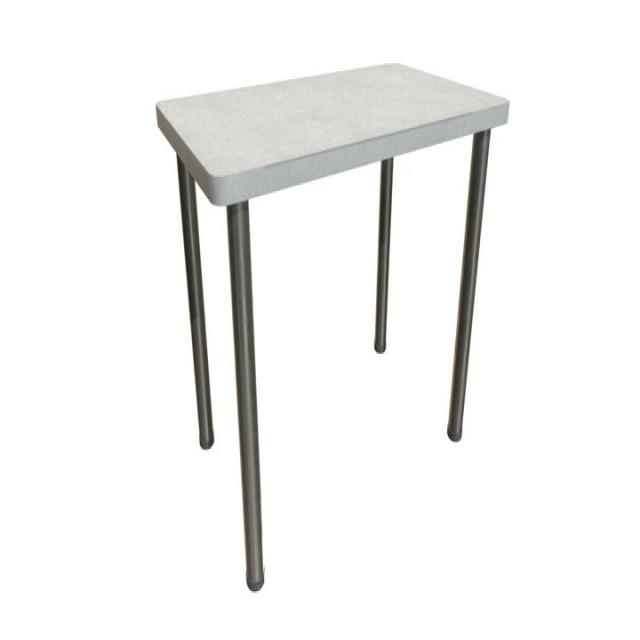table: (156, 63, 509, 596)
